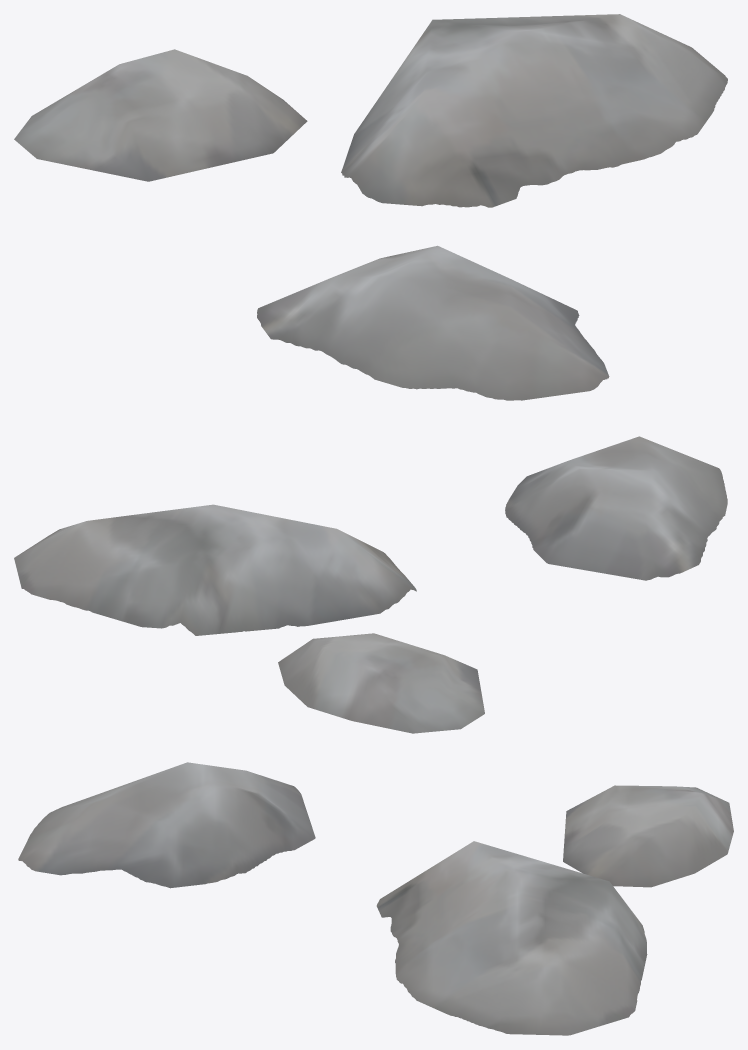
File: SM_PebblesGroup_01.fbx
3 views of the same model, one above another, from view 1: azimuth 30°, elevation 25°; view 2: azimuth 150°, elevation 25°; view 3: azimuth 270°, elevation 25° (orthographic). The views are drawn at different scales.
Visible parts, largest first — view 1: SM_PebblesGroup_01_LOD0; view 2: SM_PebblesGroup_01_LOD0; view 3: SM_PebblesGroup_01_LOD0.
Boxes of the visible parts, bbox=[...] form: SM_PebblesGroup_01_LOD0: bbox=[14, 14, 727, 400]; SM_PebblesGroup_01_LOD0: bbox=[14, 436, 727, 733]; SM_PebblesGroup_01_LOD0: bbox=[18, 762, 733, 1035].
Bounding box in the file's own units: 97.96 × 13.43 × 118.
